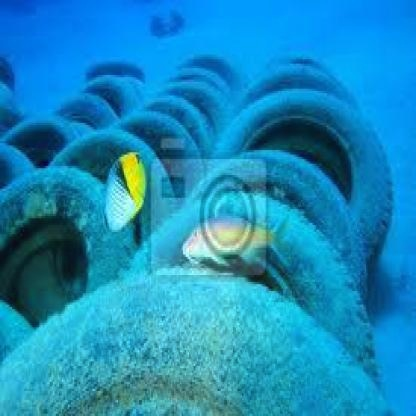tire: (193, 182, 414, 416), (254, 107, 407, 284), (2, 163, 121, 330), (14, 104, 121, 198)
